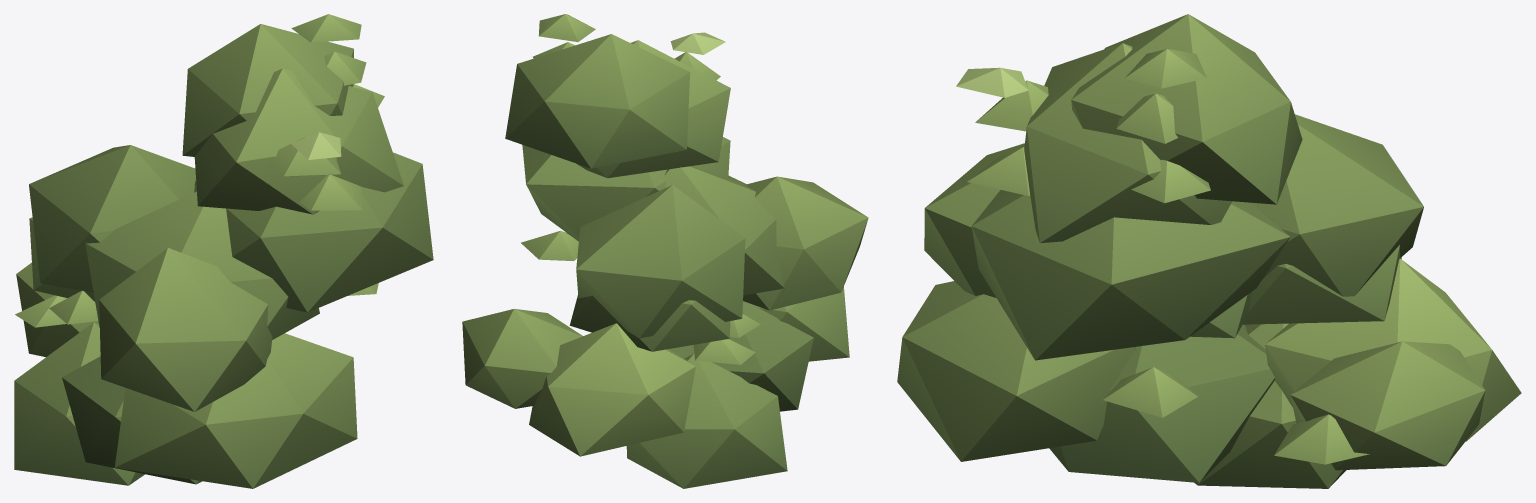
The model's file is env_bush_round_01.glb.
The picture shows the model from 3 angles, left to right: view 1: azimuth 30°, elevation 25°; view 2: azimuth 150°, elevation 25°; view 3: azimuth 270°, elevation 25°; orthographic projection. The views are drawn at different scales.
Visible parts, largest first — view 1: bush_round_01; view 2: bush_round_01; view 3: bush_round_01.
Boxes of the visible parts, x1,y1,x2,y2 form: bush_round_01: (14,14,433,488); bush_round_01: (462,14,868,488); bush_round_01: (897,14,1521,488).
Size of the model in its own units: 0.3928 by 0.4397 by 0.4773.
